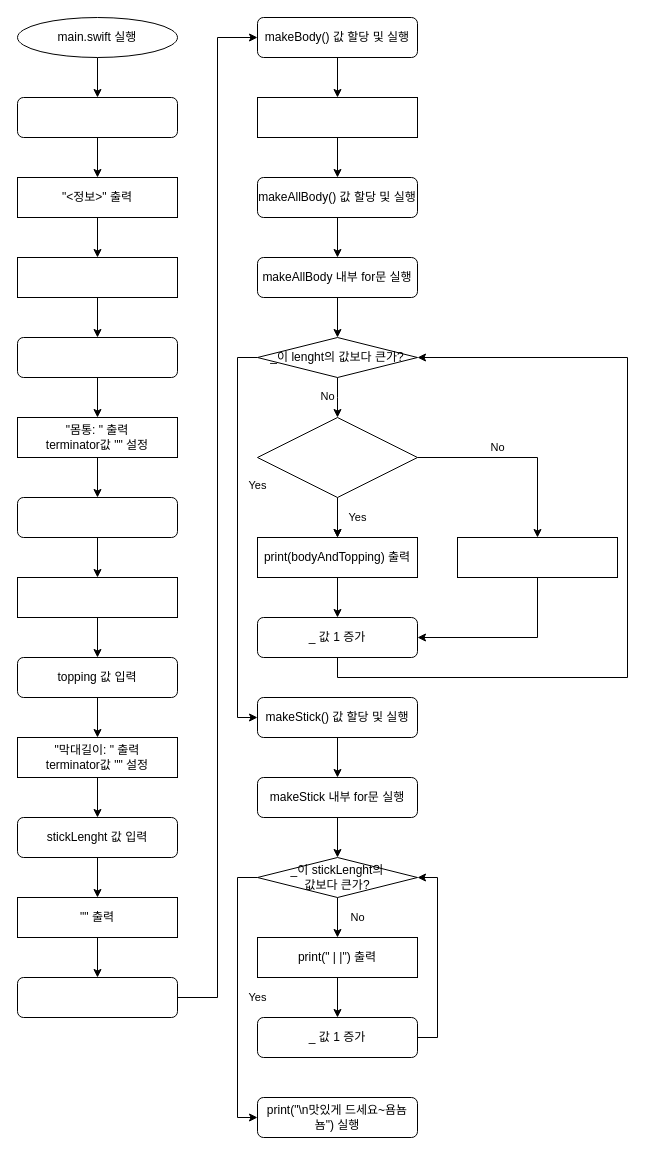
Image size: 653x1155. Some labels were removed from this diagram. Here are the shapes that lost their labels. From the top down, the centre of each, then its label:
point 97,117: bodyAndTopping 변수 초기화
point 337,117: body와 topping 값을 통한 bodyAndTopping 값 리턴
point 97,277: "길이: " 출력 terminator값 "" 설정
point 97,357: lenght 값 입력
point 337,457: bodyAndTopping 크기가 3보다 큰가?
point 97,517: body 값 입력
point 537,557: pirnt(" " + bodyAndTopping) 출력
point 97,597: "토핑: " 출력 terminator값 "" 설정
point 97,997: makePepero() 값 할당 및 실행
